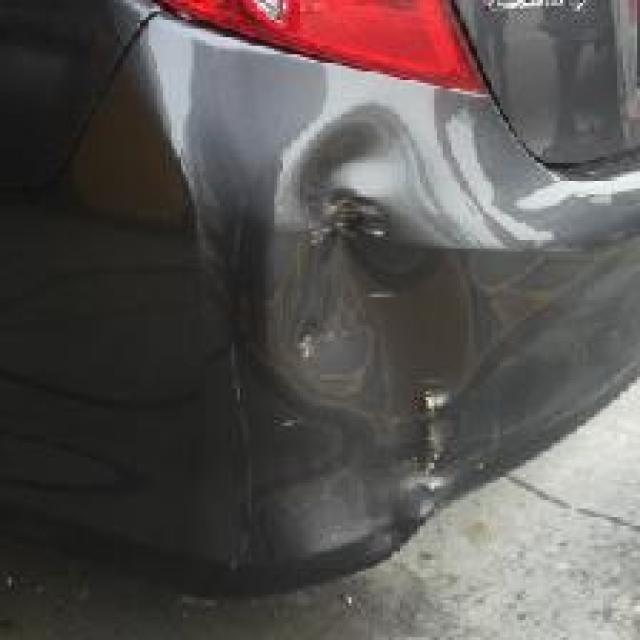bumper_dent_moderate: (271, 151, 454, 406)
